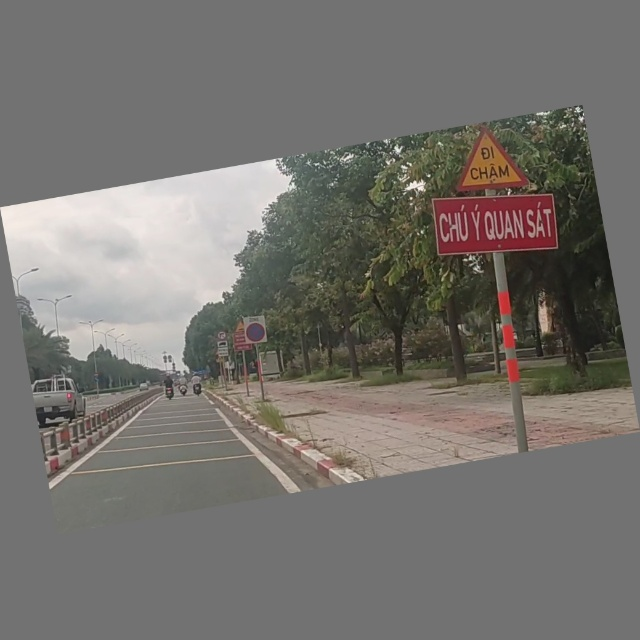P.123b: (215, 331, 228, 342)
P.130: (241, 315, 269, 347)
S.505a*Xe tai: (216, 341, 230, 359)
W.245a: (445, 122, 534, 202)
